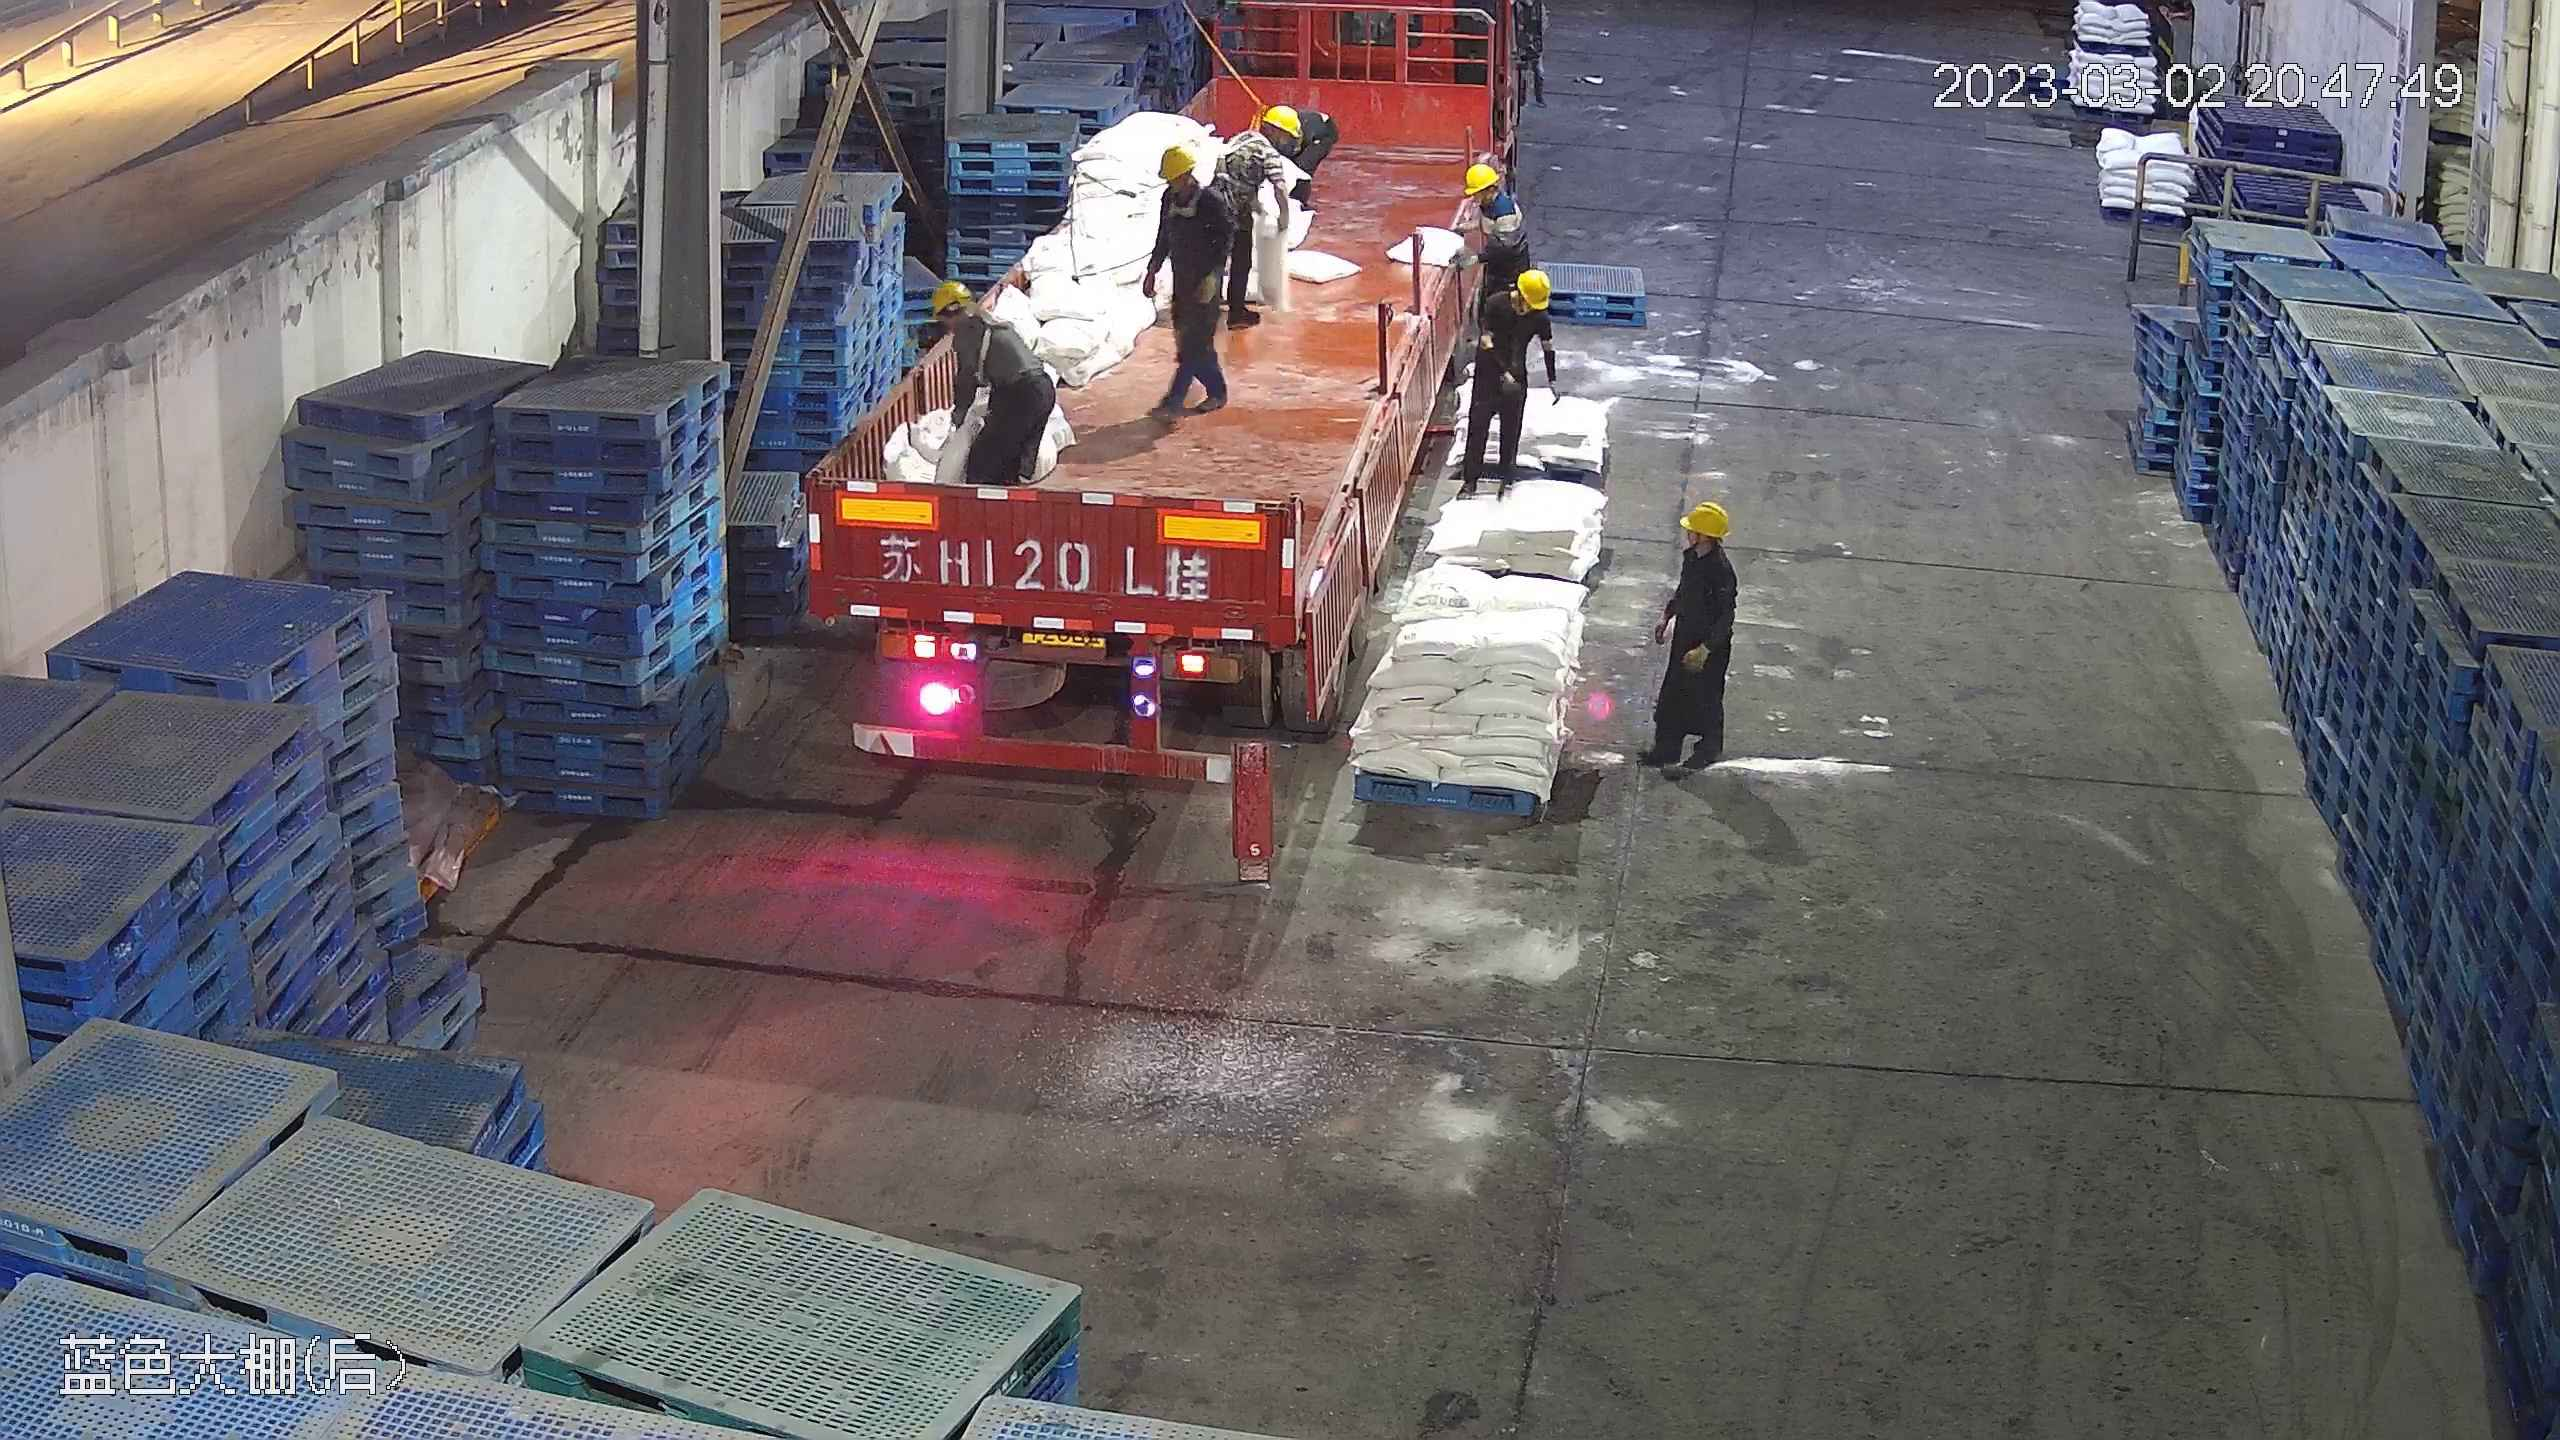belt: (961, 309, 1025, 370), (1221, 135, 1280, 182), (1164, 176, 1205, 220), (1245, 88, 1269, 132)
head: (927, 278, 1015, 363), (1670, 499, 1735, 601), (1150, 142, 1228, 227), (1226, 106, 1308, 175), (1475, 270, 1552, 343), (1460, 161, 1526, 238)
helmet: (1679, 499, 1731, 537), (928, 278, 975, 313), (1154, 143, 1196, 180), (1514, 268, 1550, 308), (1261, 102, 1303, 138), (1464, 161, 1501, 192)
people: (910, 275, 1064, 493), (1141, 145, 1238, 418), (1645, 496, 1736, 777), (1456, 265, 1556, 486), (1213, 108, 1313, 320)
truck: (802, 44, 1492, 803)
